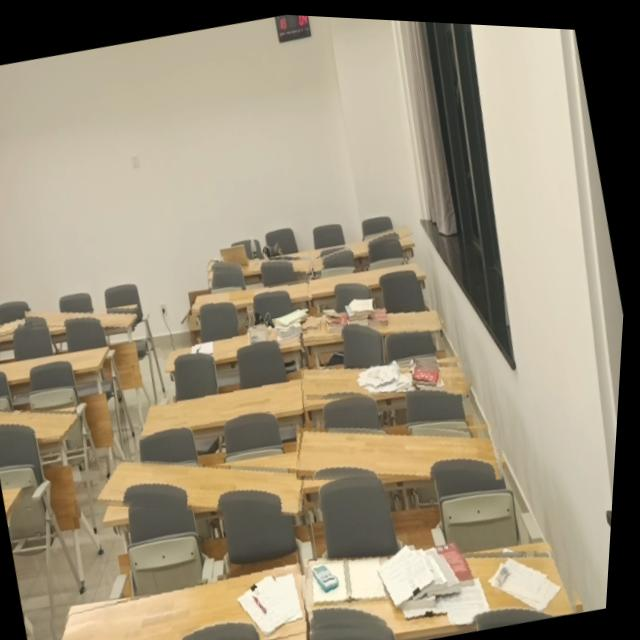Non-empty: (315, 544, 581, 620), (69, 559, 315, 640), (170, 309, 307, 370), (305, 359, 474, 393), (303, 304, 446, 336), (209, 254, 314, 269), (0, 315, 33, 341)
empty: (103, 458, 311, 512), (302, 425, 507, 474), (146, 372, 308, 433), (317, 220, 416, 266), (310, 255, 426, 293), (0, 347, 114, 383), (195, 277, 312, 310), (0, 410, 82, 439), (30, 306, 141, 325)
